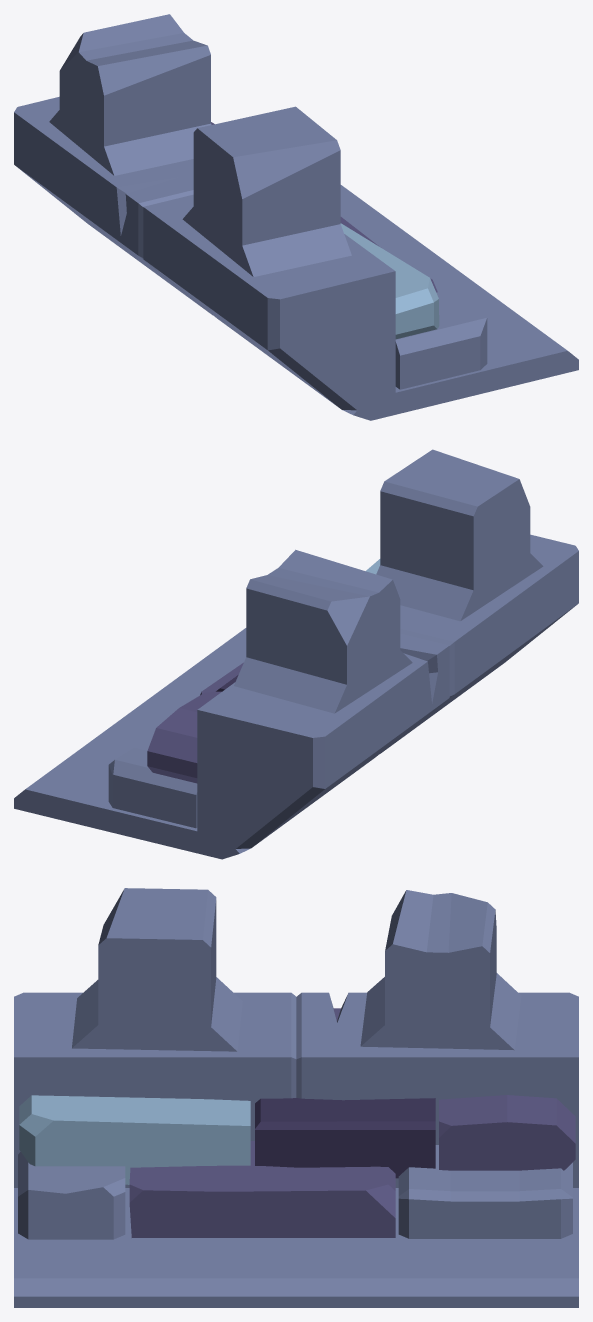
File: Wall_Top_2.fbx
3 views of the same model, one above another, from view 1: azimuth 30°, elevation 25°; view 2: azimuth 150°, elevation 25°; view 3: azimuth 270°, elevation 25° (orthographic). The views are drawn at different scales.
Parts seen in each view (by area): view 1: Wall_Top_2; view 2: Wall_Top_2; view 3: Wall_Top_2.
Part boxes in pixels (bbox=[...]): Wall_Top_2: bbox=[14, 14, 578, 420]; Wall_Top_2: bbox=[14, 449, 578, 859]; Wall_Top_2: bbox=[14, 888, 578, 1307].
Size of the model in its own units: 546 by 420 by 810.
